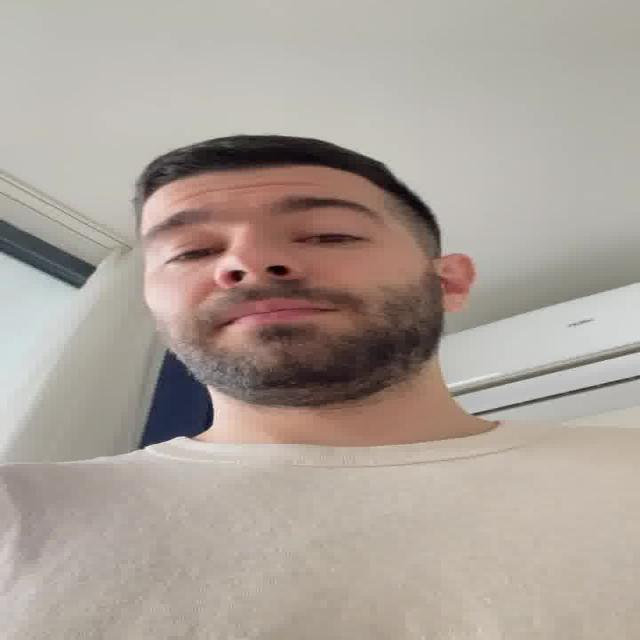earlobe: (430, 253, 476, 315)
